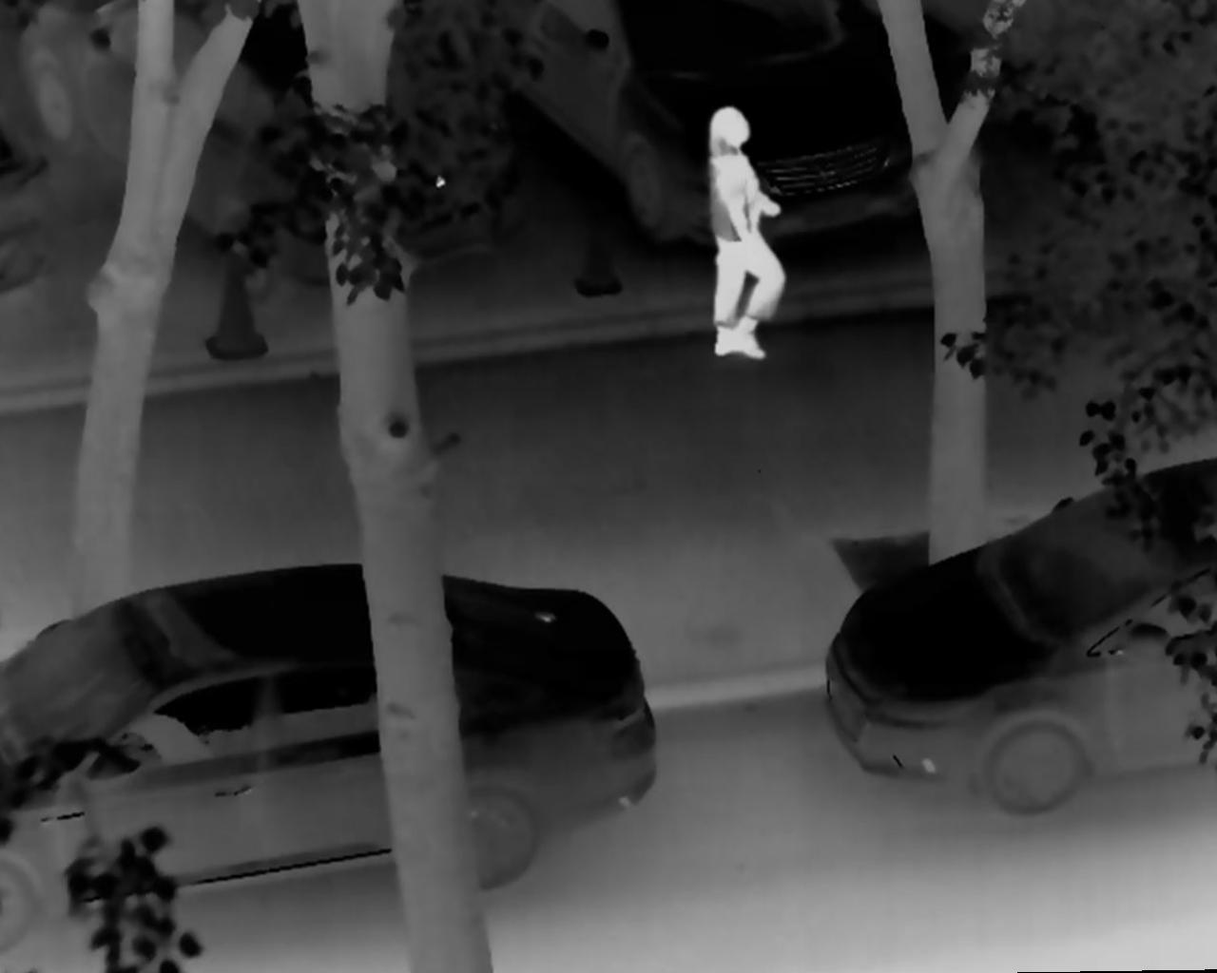person: (684, 98, 795, 370)
